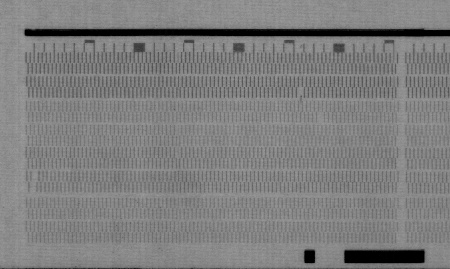Broken hole: (28, 171, 41, 194), (315, 111, 326, 124)
Oblique printing: (295, 86, 306, 102)
